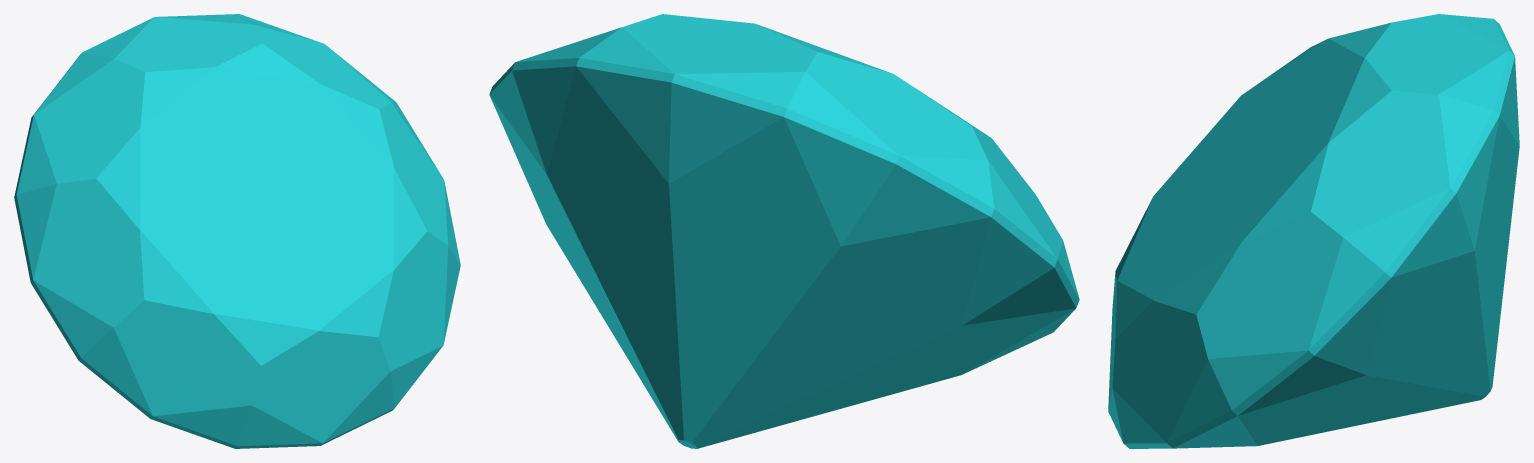
The model's file is TealGem_BAG.glb.
The picture shows the model from 3 angles, left to right: view 1: azimuth 30°, elevation 25°; view 2: azimuth 150°, elevation 25°; view 3: azimuth 270°, elevation 25°; orthographic projection. The views are drawn at different scales.
Parts seen in each view (by area): view 1: gem.body; view 2: gem.body; view 3: gem.body.
Boxes of the visible parts, box(x1,y1,x2,y2) form: gem.body: box(14, 14, 460, 448); gem.body: box(489, 14, 1079, 448); gem.body: box(1108, 14, 1519, 448).
Size of the model in its own units: 0.06 by 0.0435 by 0.0437.
